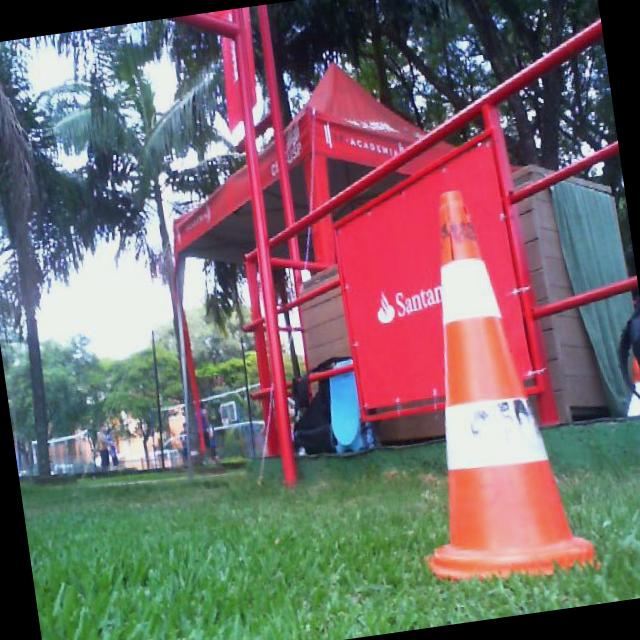Cone: (373, 178, 596, 590)
